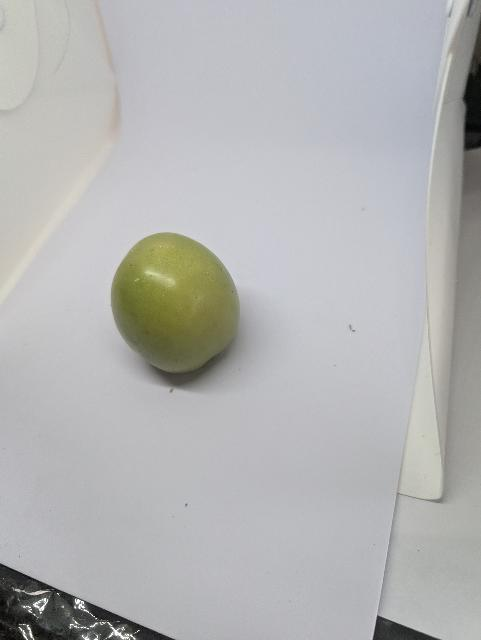green: (109, 227, 248, 381)
